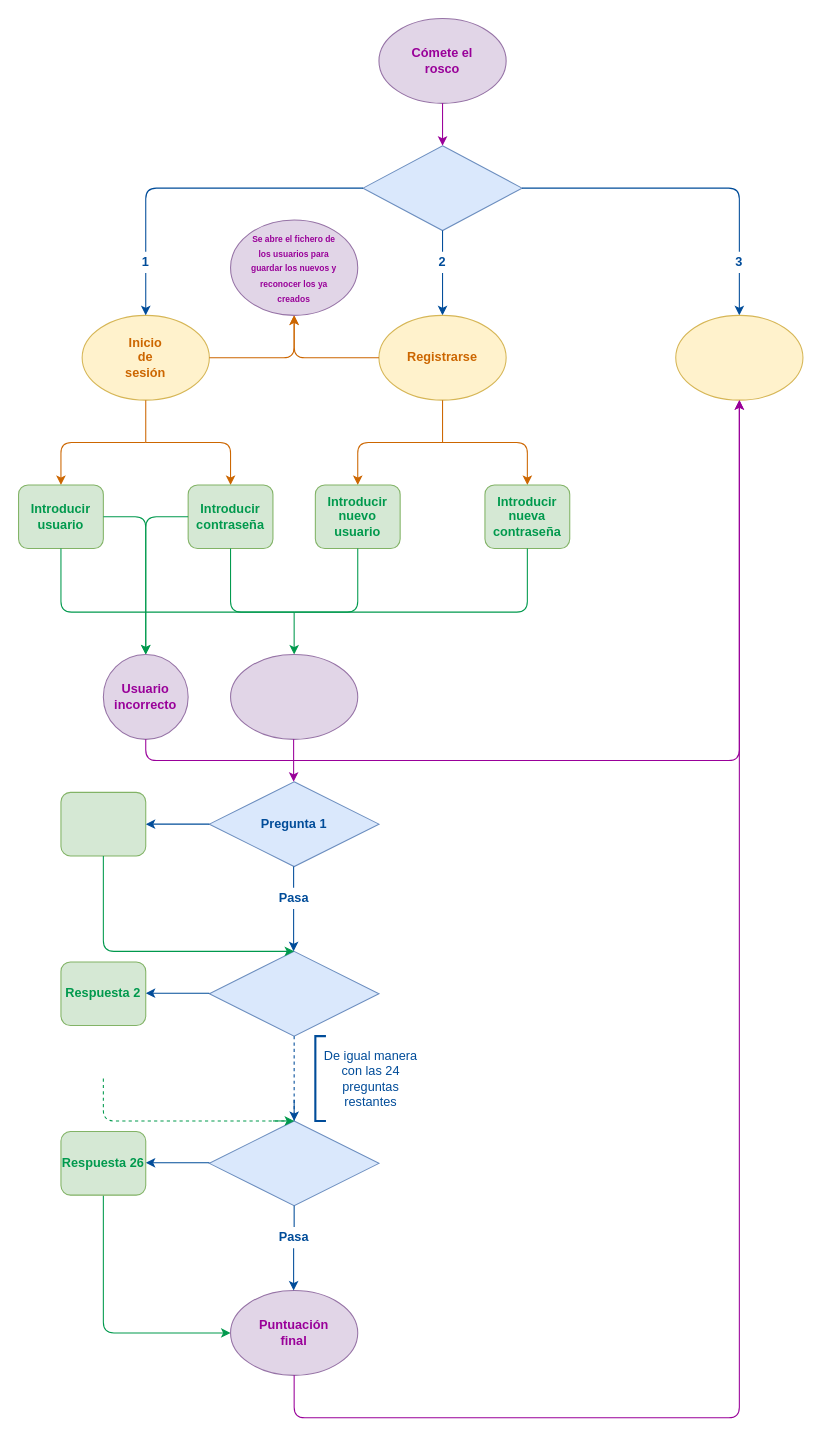
This 821x1445 diagram has some shape labels left out. Each missing label, with the box of its shape:
Instrucciones: (229, 653, 358, 739)
Opciones: (362, 145, 522, 231)
Pregunta 2: (208, 950, 379, 1036)
Pregunta 26: (208, 1120, 379, 1206)
Respuesta 1: (60, 791, 146, 856)
Salir del juego: (675, 314, 803, 400)
